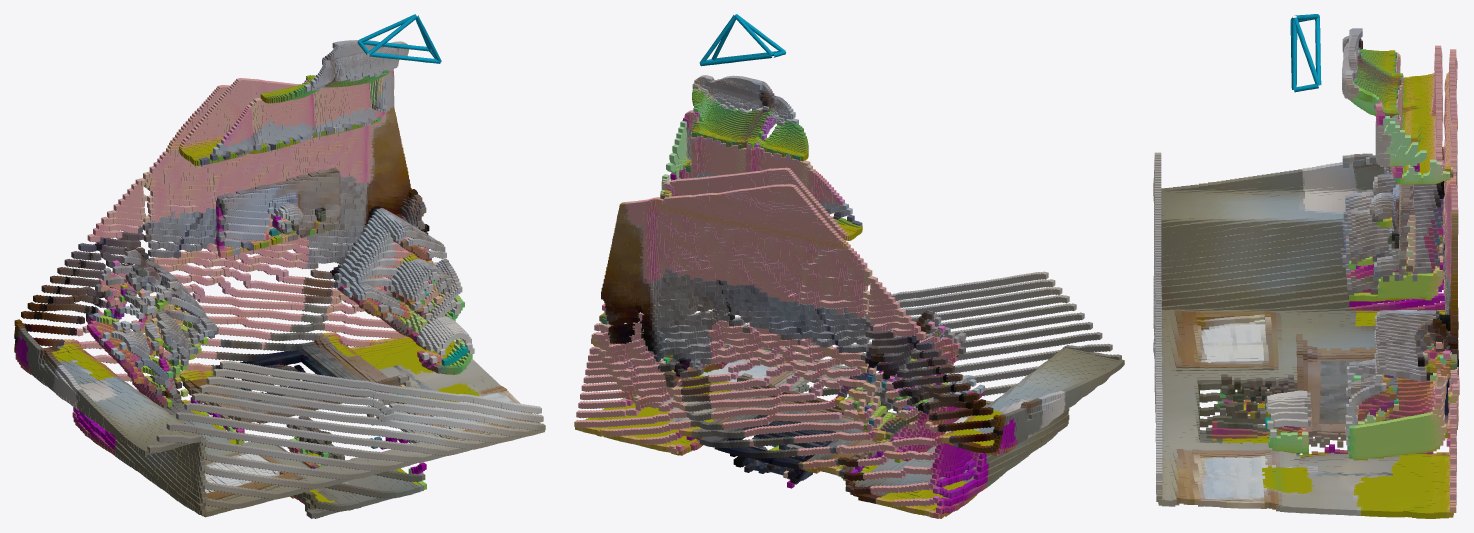
3 views of the same model, side by side, from view 1: azimuth 30°, elevation 25°; view 2: azimuth 150°, elevation 25°; view 3: azimuth 270°, elevation 25° (orthographic). The views are drawn at different scales.
Size of the model in its own units: 4.54 by 4.44 by 2.44.
